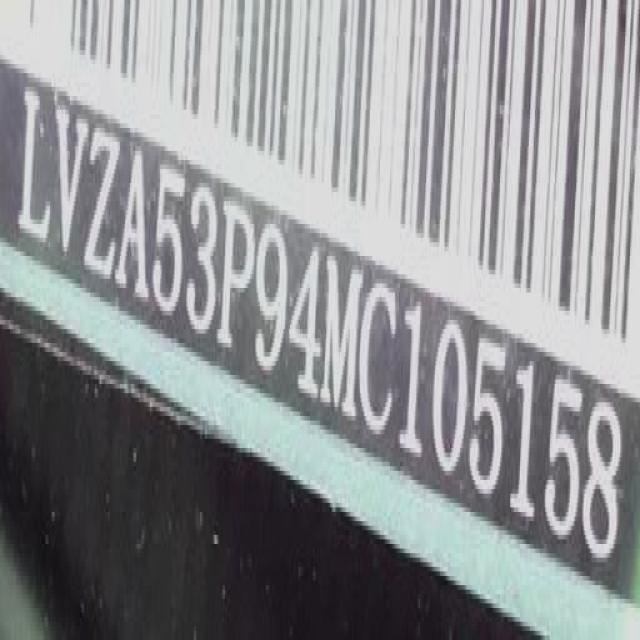0: (431, 307, 473, 491)
1: (399, 292, 433, 472), (512, 344, 544, 534)
3: (186, 175, 226, 348)
4: (292, 230, 330, 415)
5: (545, 364, 589, 555), (469, 320, 509, 513), (152, 155, 187, 331)
8: (583, 394, 631, 572)
9: (255, 213, 295, 388)
A: (117, 132, 156, 315)
C: (360, 268, 402, 449)
L: (17, 76, 57, 258)
M: (318, 250, 366, 434)
P: (220, 194, 258, 373)
V: (52, 114, 88, 264)
Z: (86, 128, 125, 282)
